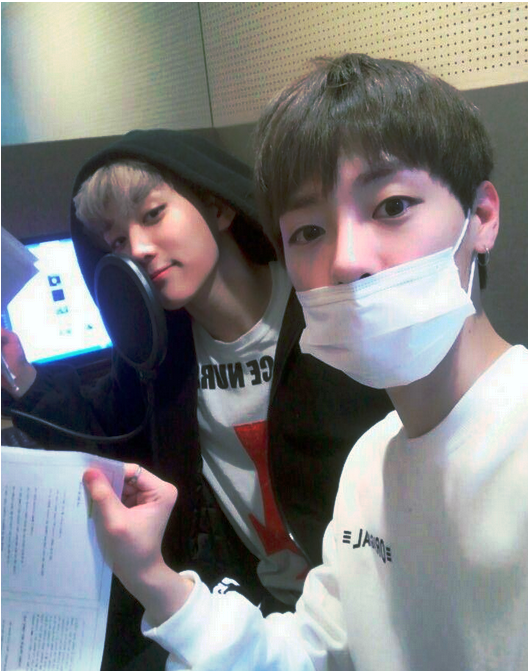mask_weared_incorrect: (260, 57, 501, 391)
